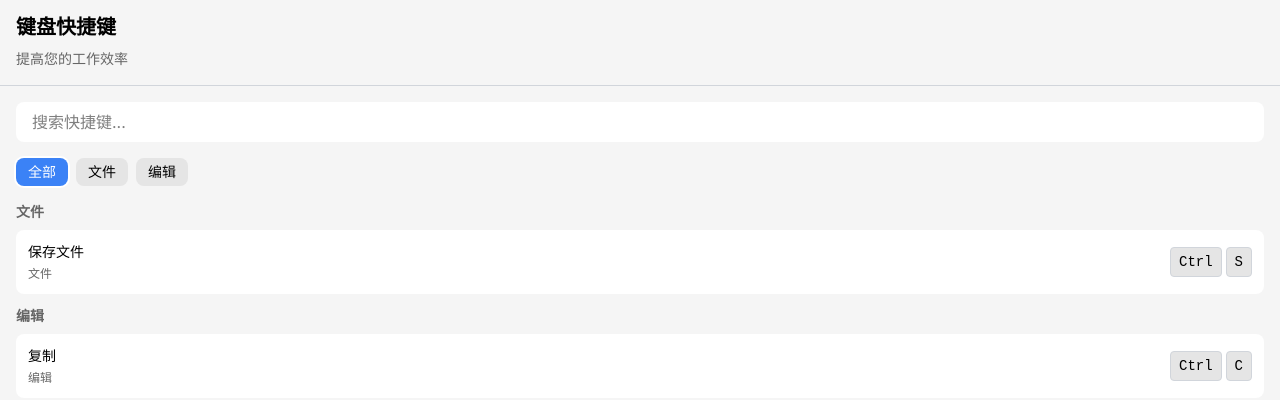
Test: KeyboardShortcuts › 搜索功能 › 应该显示未找到结果
This screenshot has width=1280, height=400.
Type "未找到" into the field with placeholder "搜索快捷键..." at (640, 122), box [16,102,1264,142]
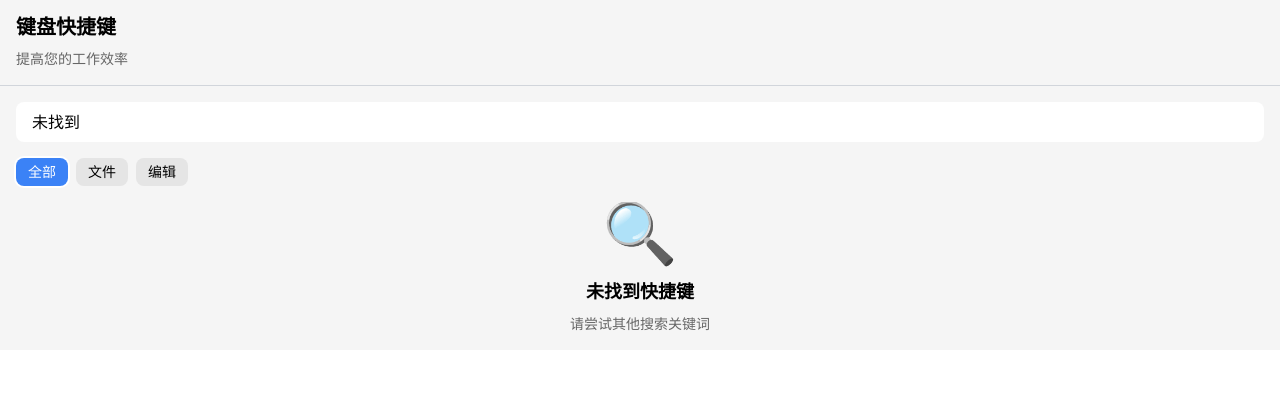
Expected: the heading "未找到快捷键" is shown, [586,278,694,306]
